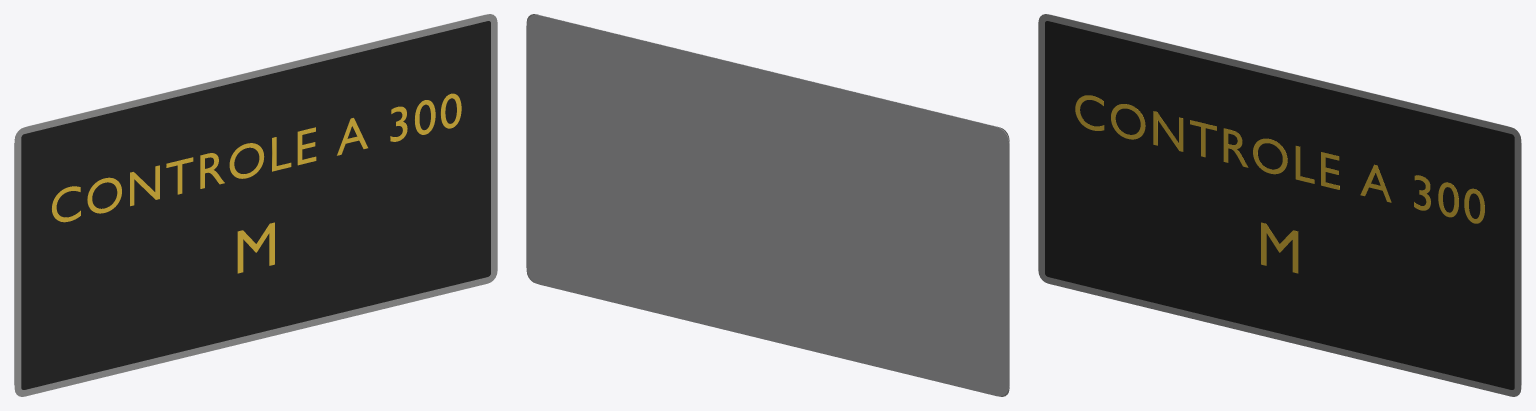
The model's file is MSG_CONTROLE_A_XXX_M.glb.
The picture shows the model from 3 angles, left to right: view 1: azimuth 30°, elevation 25°; view 2: azimuth 150°, elevation 25°; view 3: azimuth 330°, elevation 25°; orthographic projection.
Visible parts, largest first — view 1: MSG_CONTROLE_A_XXX_M_fond01, MSG_CONTROLE_A_XXX_M_cadre00, MSG_CONTROLE_A_XXX_M_txt02, MSG_CONTROLE_A_XXX_M_txt03, MSG_CONTROLE_A_XXX_M_dos; view 2: MSG_CONTROLE_A_XXX_M_dos; view 3: MSG_CONTROLE_A_XXX_M_fond01, MSG_CONTROLE_A_XXX_M_cadre00, MSG_CONTROLE_A_XXX_M_txt02, MSG_CONTROLE_A_XXX_M_txt03, MSG_CONTROLE_A_XXX_M_dos.
Part boxes in pixels (x1,y1,x2,y2): MSG_CONTROLE_A_XXX_M_fond01: [21, 21, 490, 389]; MSG_CONTROLE_A_XXX_M_cadre00: [14, 14, 497, 396]; MSG_CONTROLE_A_XXX_M_txt02: [51, 93, 461, 222]; MSG_CONTROLE_A_XXX_M_txt03: [237, 222, 274, 273]; MSG_CONTROLE_A_XXX_M_dos: [14, 14, 484, 384]; MSG_CONTROLE_A_XXX_M_dos: [526, 14, 1009, 396]; MSG_CONTROLE_A_XXX_M_fond01: [1045, 21, 1514, 389]; MSG_CONTROLE_A_XXX_M_cadre00: [1038, 14, 1521, 396]; MSG_CONTROLE_A_XXX_M_txt02: [1075, 95, 1484, 223]; MSG_CONTROLE_A_XXX_M_txt03: [1261, 222, 1298, 273]; MSG_CONTROLE_A_XXX_M_dos: [1051, 14, 1521, 384].
Size of the model in its own units: 1.5 by 0.8 by 0.0029.
